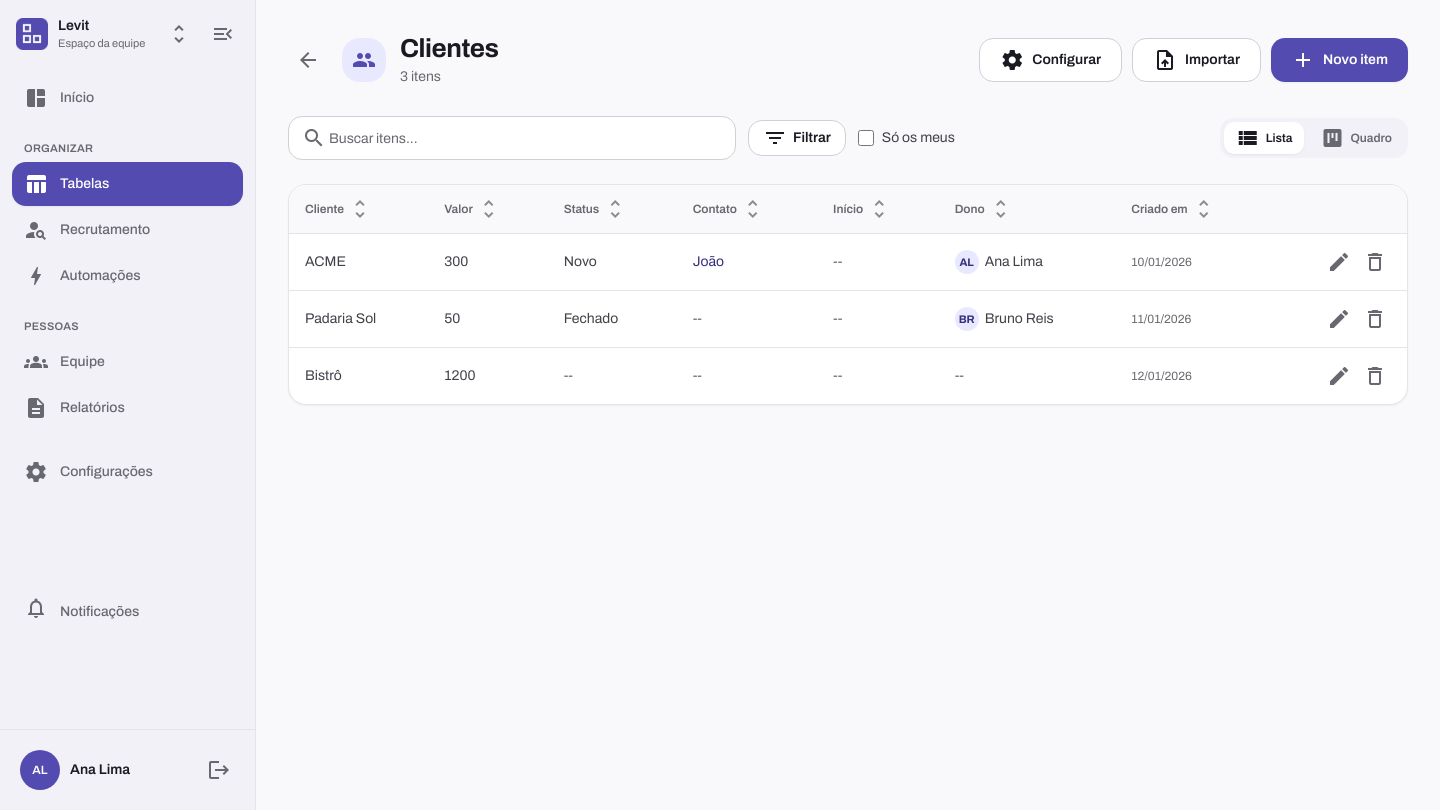
Test: ModuleRecords › cria um item pelo painel lateral
Check: the cell "ACME" is shown, box [289,234,428,290]
Click the button "Novo item" at coordinates (1340, 60), box [1271,38,1408,82]
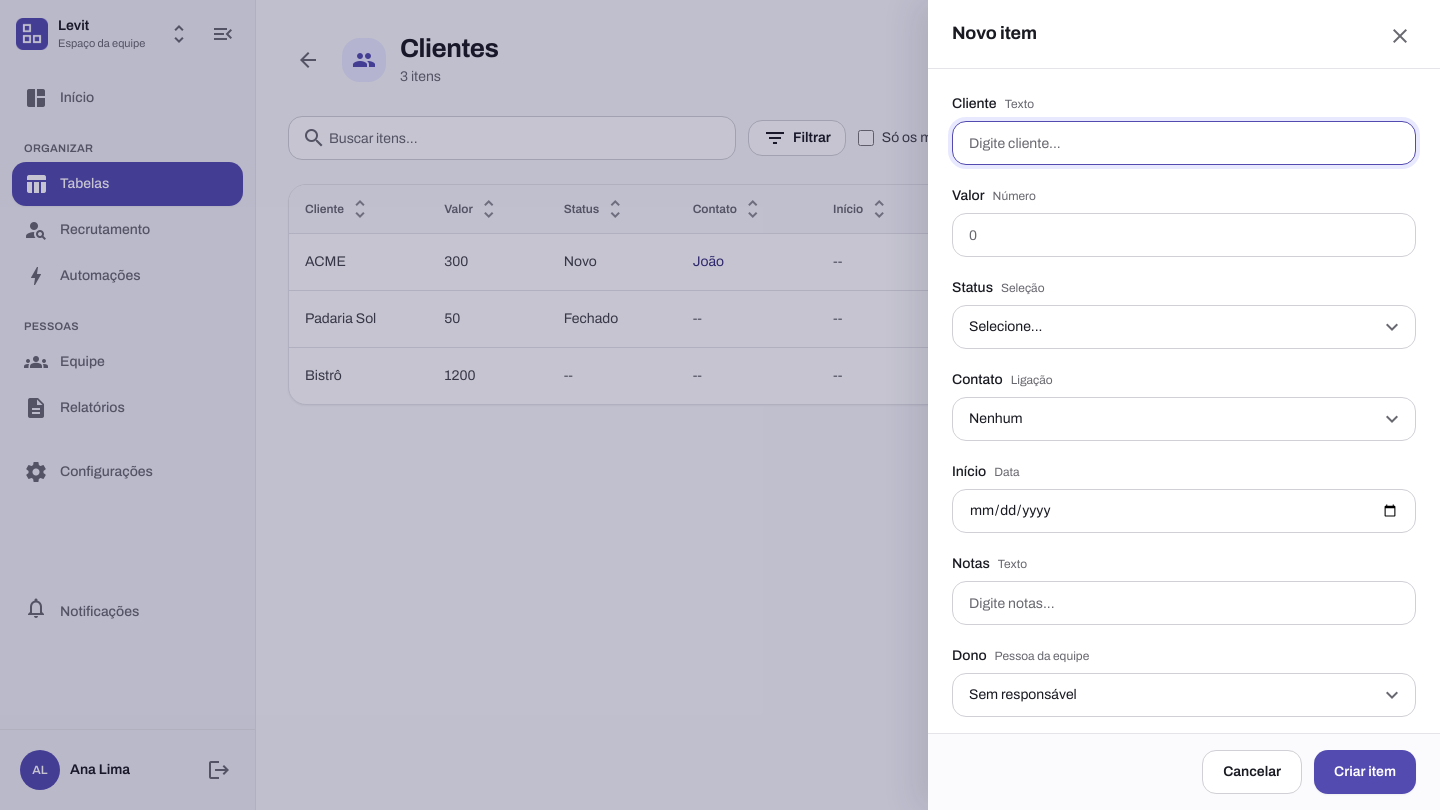
Check: the field labelled "NotasTexto" is shown, box [952,581,1416,625]
Type "Nova Loja" into the field labelled "ClienteTexto" at coordinates (1184, 143), box [952,121,1416,165]
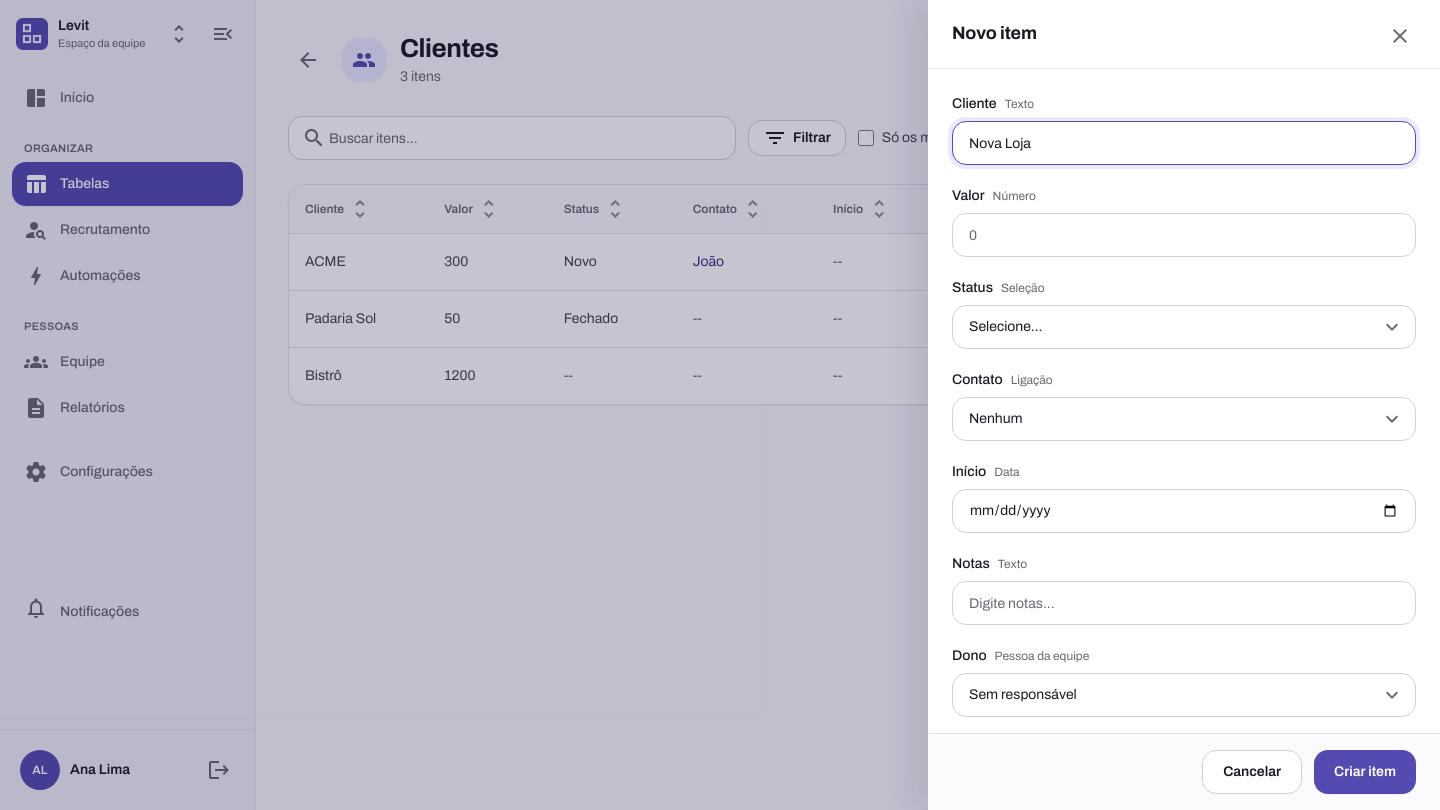
Type "42" into the number field labelled "ValorNúmero" at coordinates (1184, 235), box [952,213,1416,257]
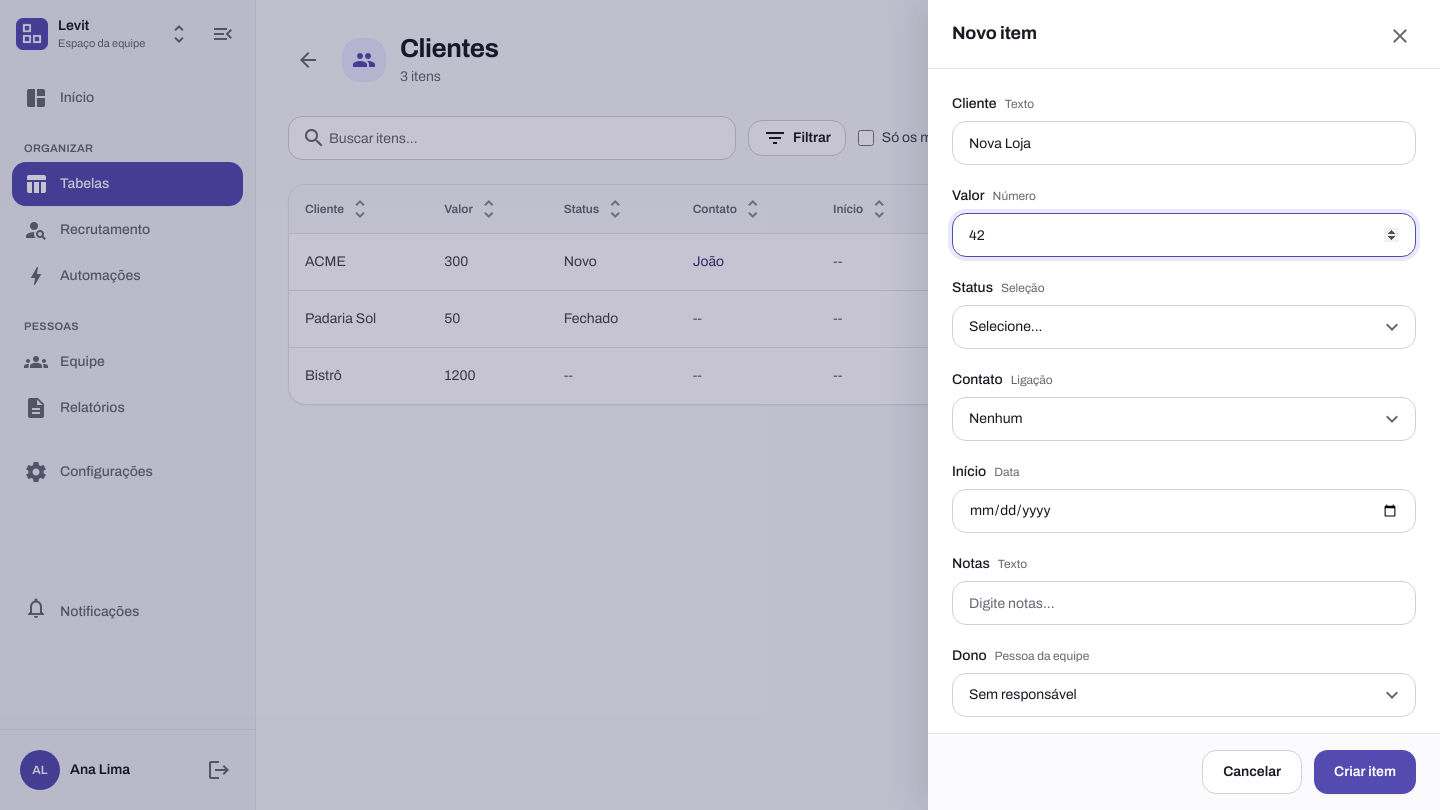
Select "Fechado" in the dropdown labelled "StatusSeleção" at coordinates (1184, 327), box [952,305,1416,349]
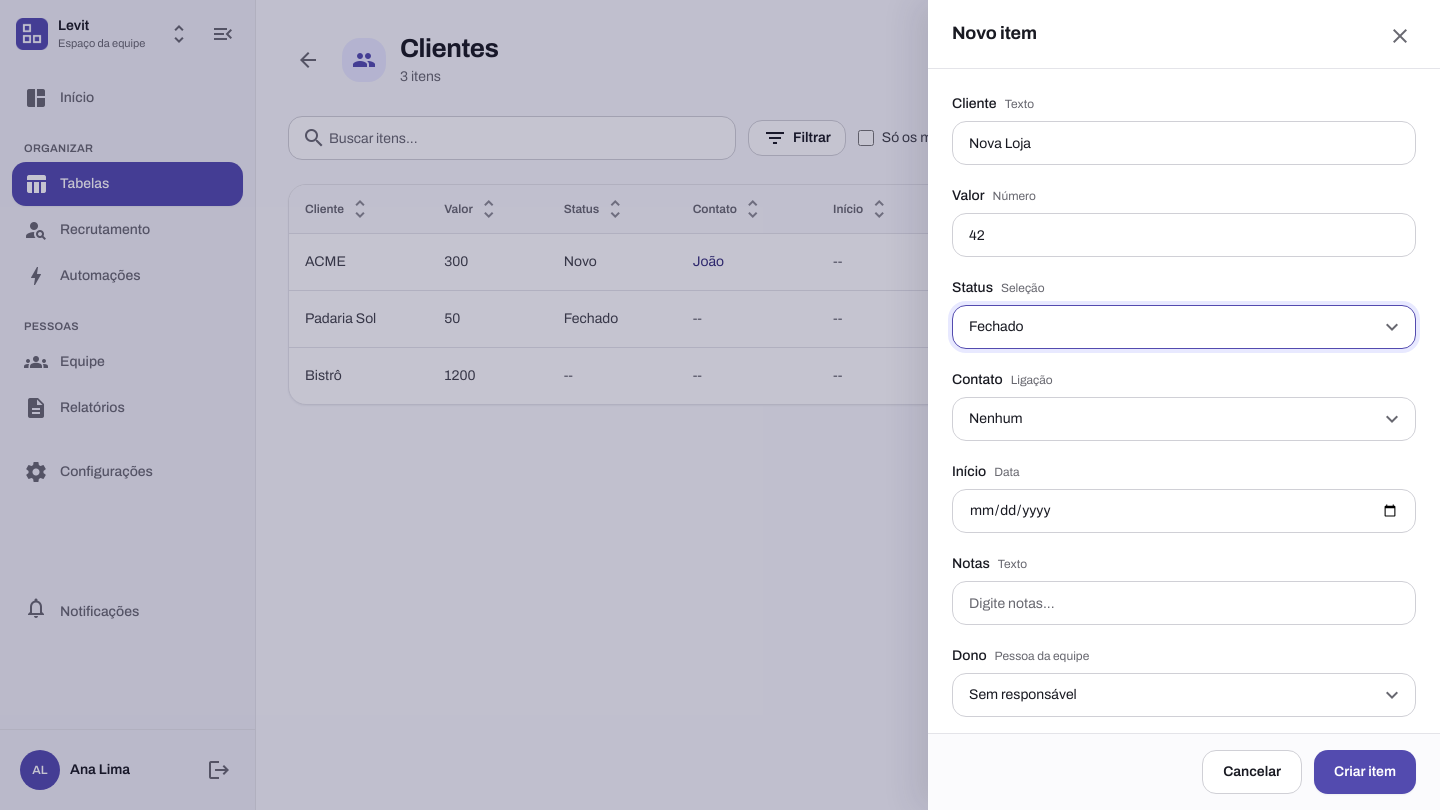
Select "Bruno Reis" in the dropdown labelled "DonoPessoa da equipe" at coordinates (1184, 695), box [952,673,1416,717]
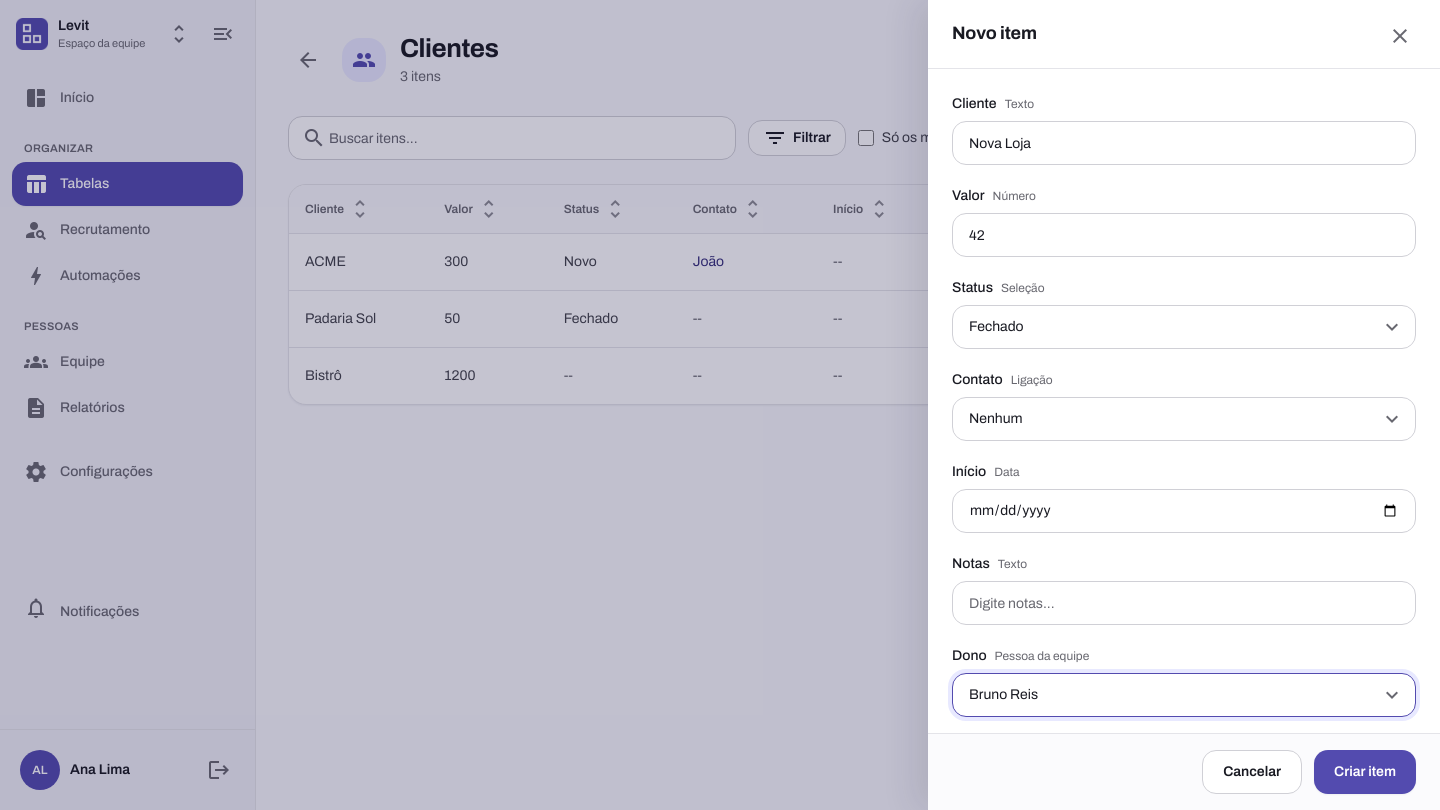
Click the button "Criar item" at coordinates (1365, 772), box [1314,750,1416,794]
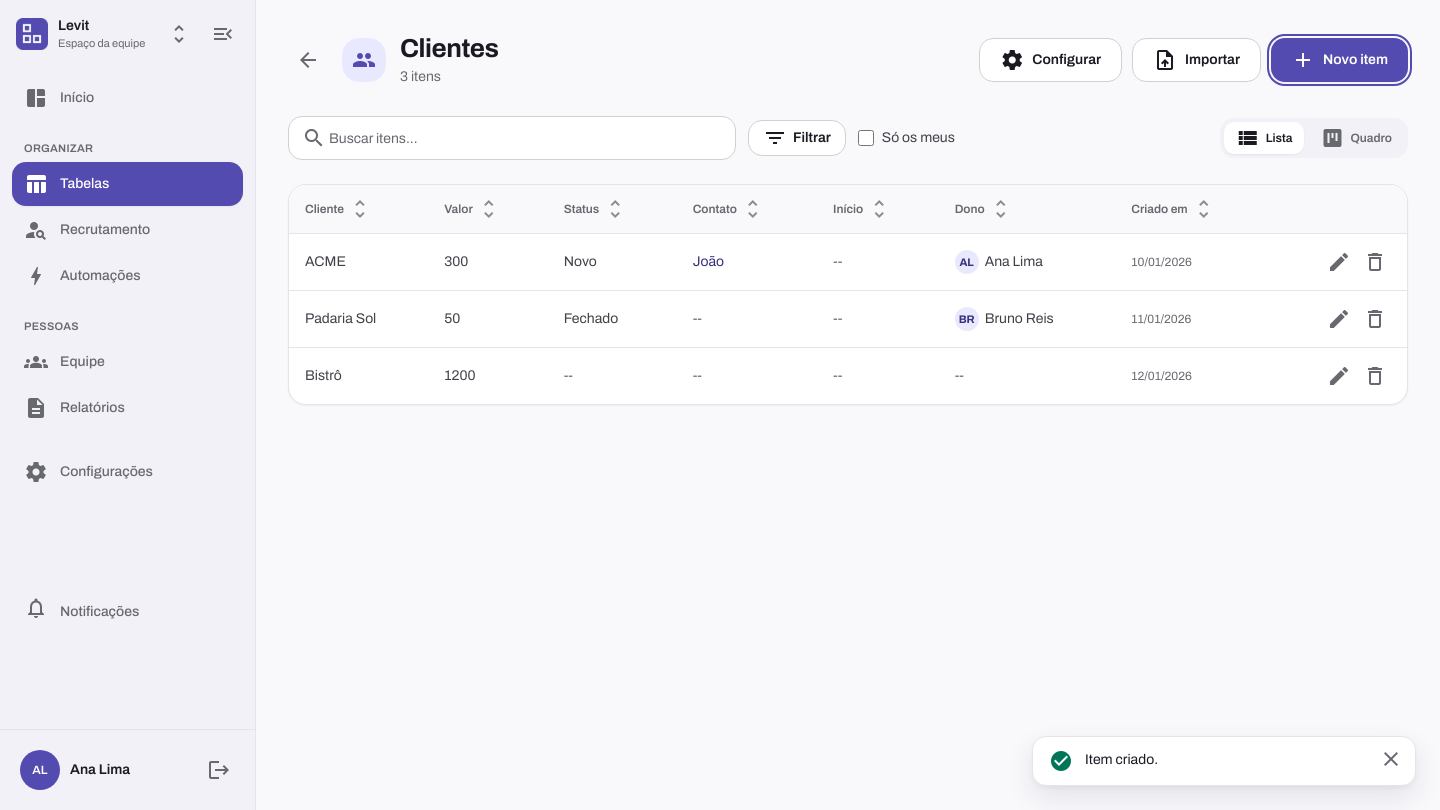
Check: the text "Item criado." is shown, box [1085,752,1158,767]
